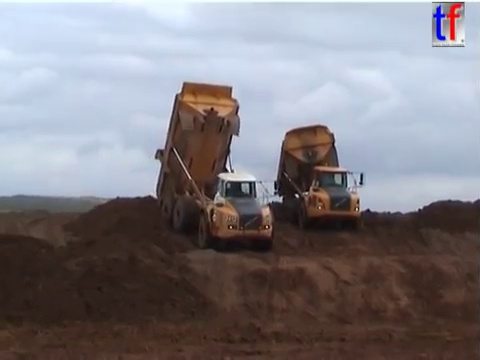truck: (151, 79, 281, 252), (274, 123, 366, 231)
